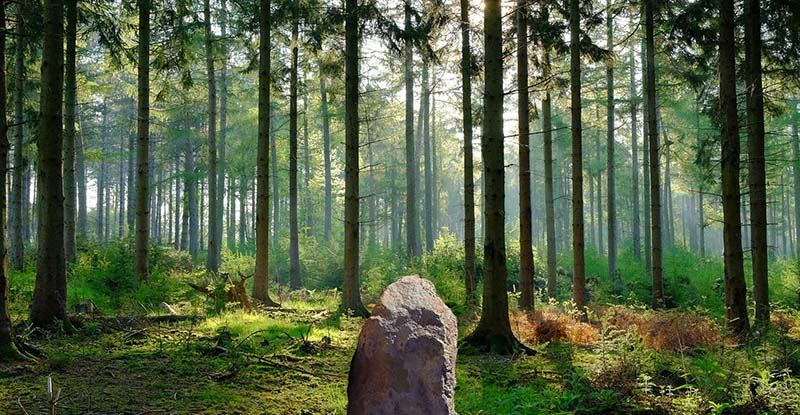Rocks: (342, 269, 462, 415)
